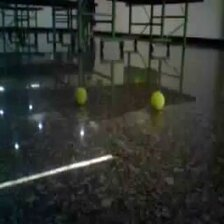tennis: (149, 90, 166, 111), (74, 87, 88, 105)
